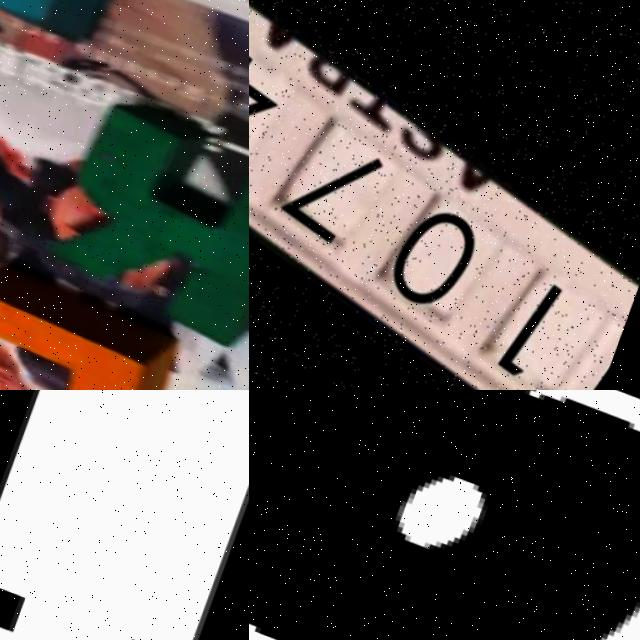0: (364, 170, 518, 338)
1: (472, 245, 627, 390)
4: (249, 21, 317, 192)
7: (265, 102, 418, 270)
9: (249, 390, 640, 640)
K: (47, 86, 249, 349)
L: (0, 247, 207, 390)
U: (0, 390, 249, 640)
